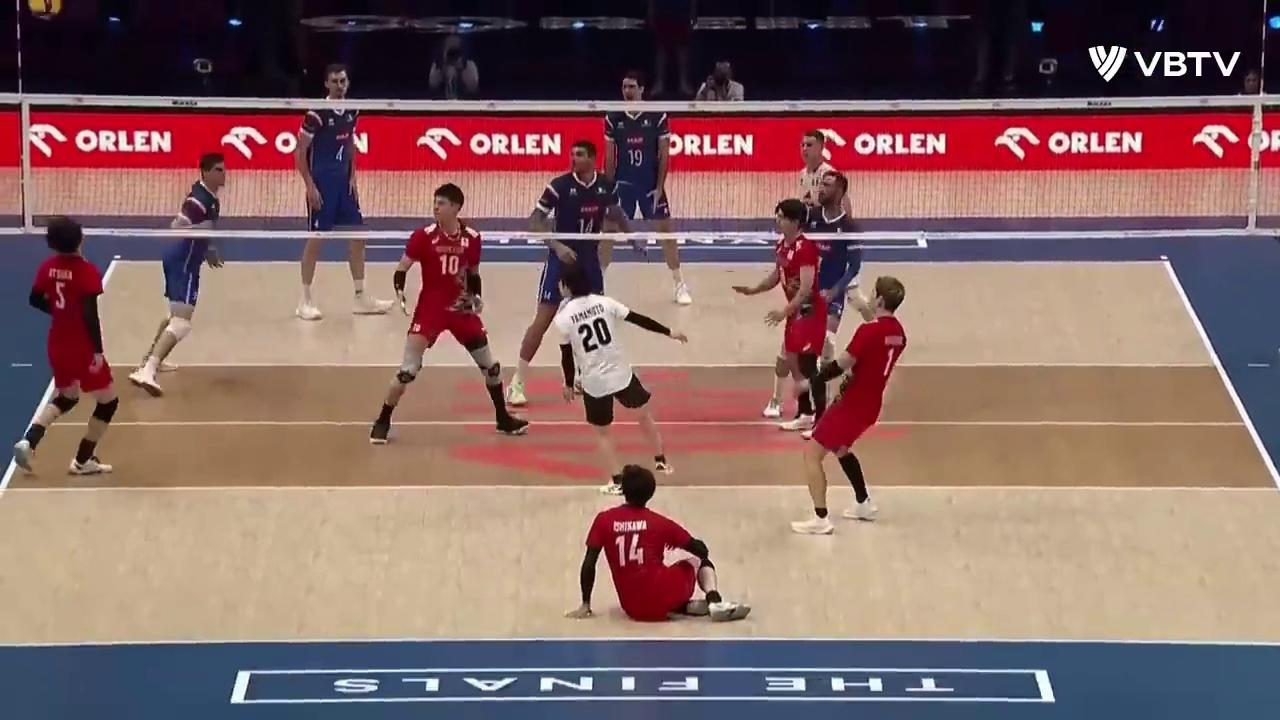ball: (28, 0, 62, 21)
